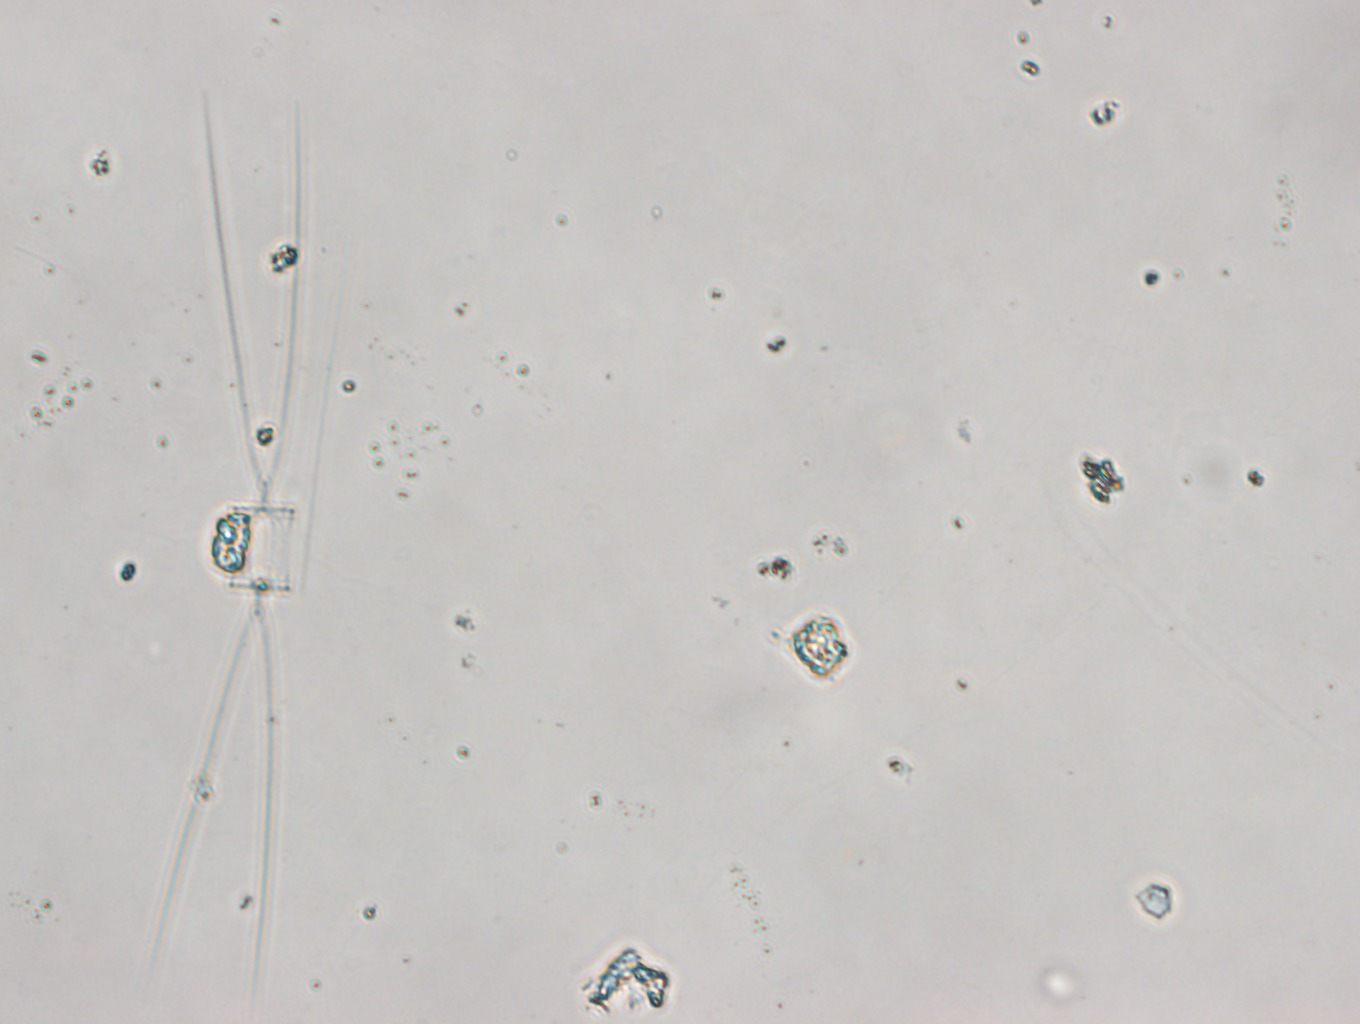chaetoceros: (147, 83, 304, 991)
